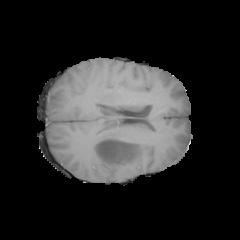glioma: (92, 132, 150, 169)
